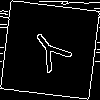Y: (25, 25, 80, 82)
